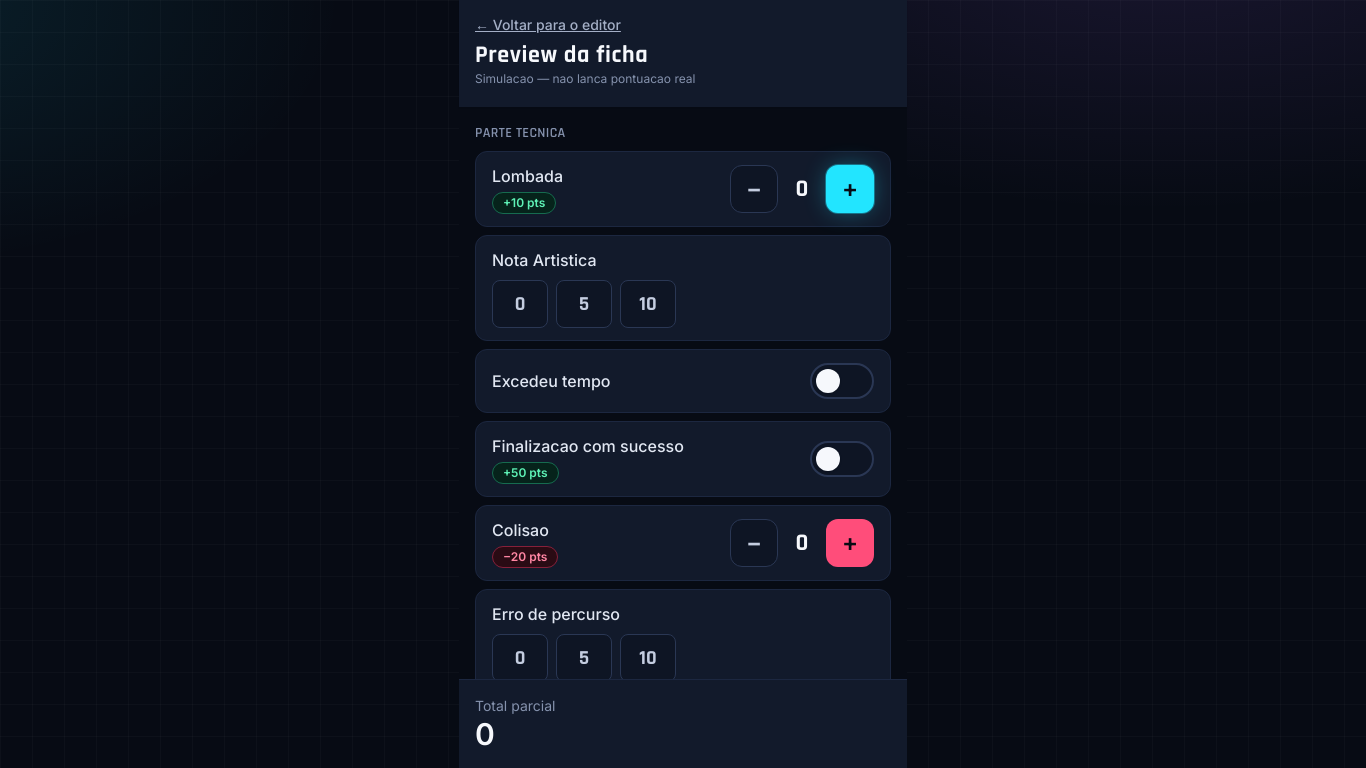
Test: FichaPreviewPage › incrementa um contador e atualiza o total parcial com a resposta do /simular
Click the button named "aumentar lombada".
click(850, 189)  # box [826, 165, 874, 213]
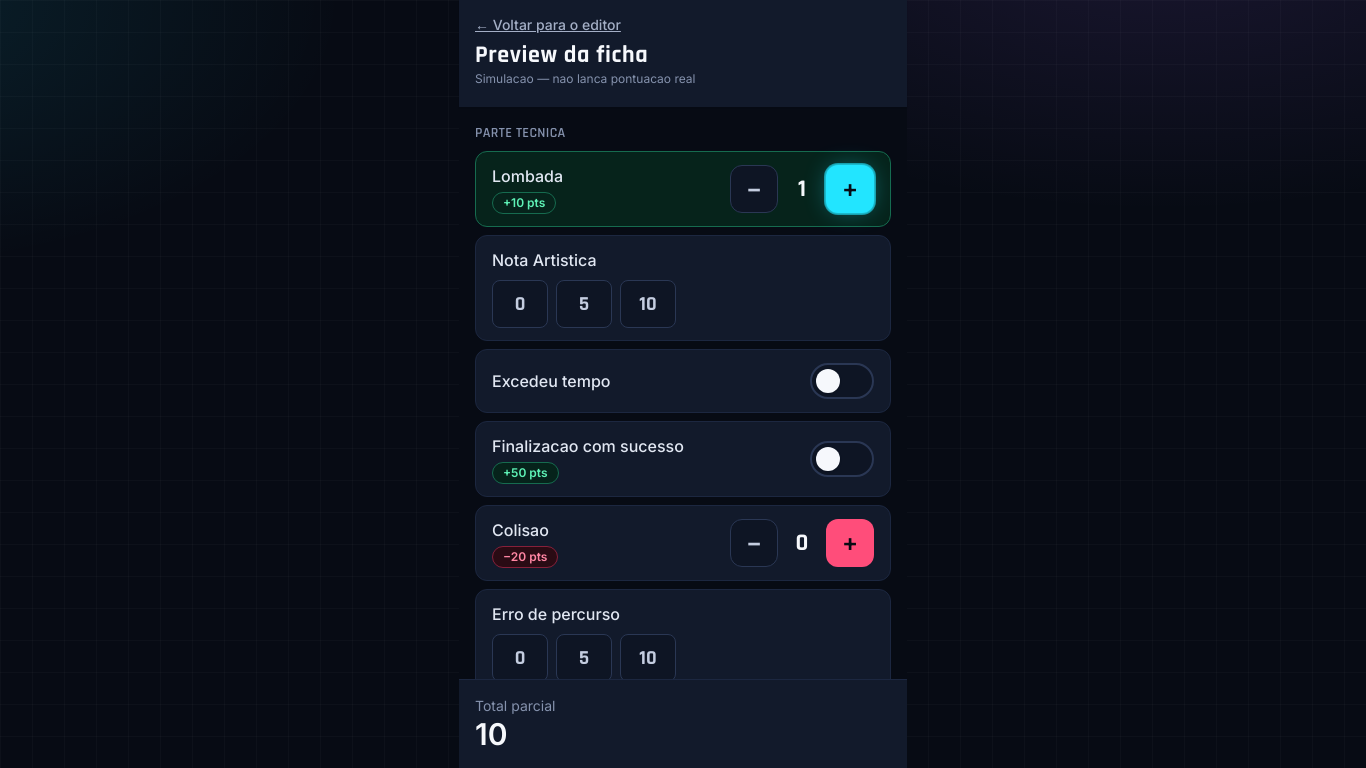
Now the text with test id "total-parcial" reads "10", box [475, 716, 508, 752]
